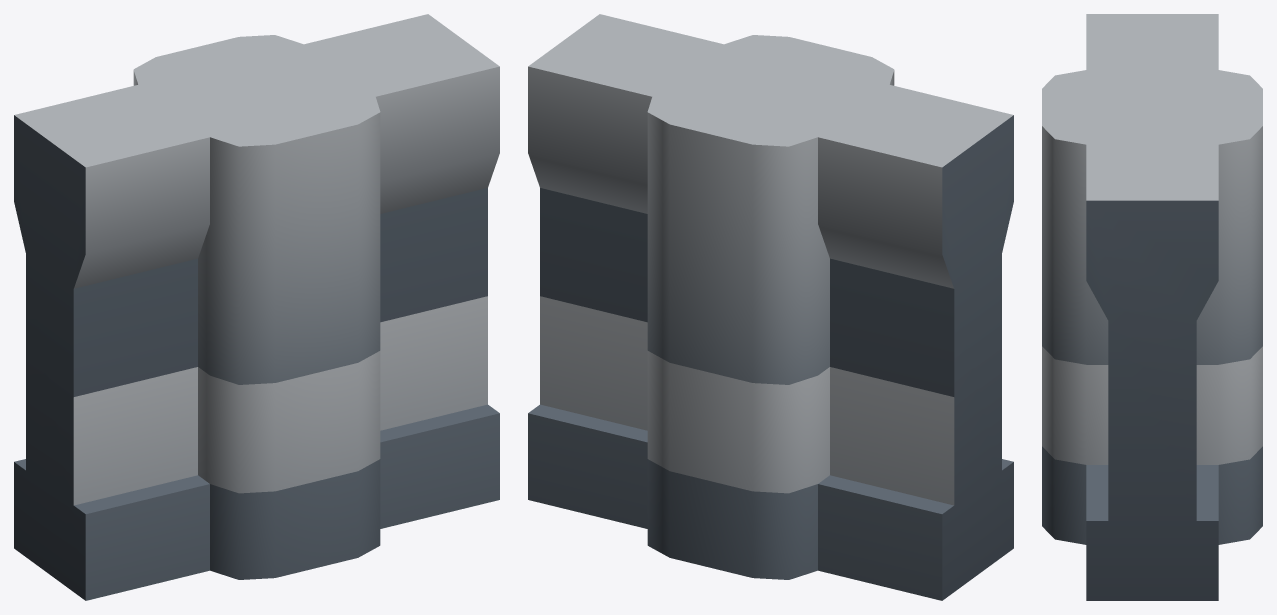
The model's file is wall-pillar-banner.glb.
3 views of the same model, side by side, from view 1: azimuth 30°, elevation 25°; view 2: azimuth 150°, elevation 25°; view 3: azimuth 270°, elevation 25° (orthographic). The views are drawn at different scales.
Parts seen in each view (by area): view 1: wall-pillar-banner; view 2: wall-pillar-banner; view 3: wall-pillar-banner.
Part boxes in pixels (x1=…): wall-pillar-banner: x1=14, y1=14, x2=499, y2=600; wall-pillar-banner: x1=528, y1=14, x2=1013, y2=600; wall-pillar-banner: x1=1042, y1=14, x2=1262, y2=600.
Bounding box in the file's own units: 1 × 1 × 0.5001.
